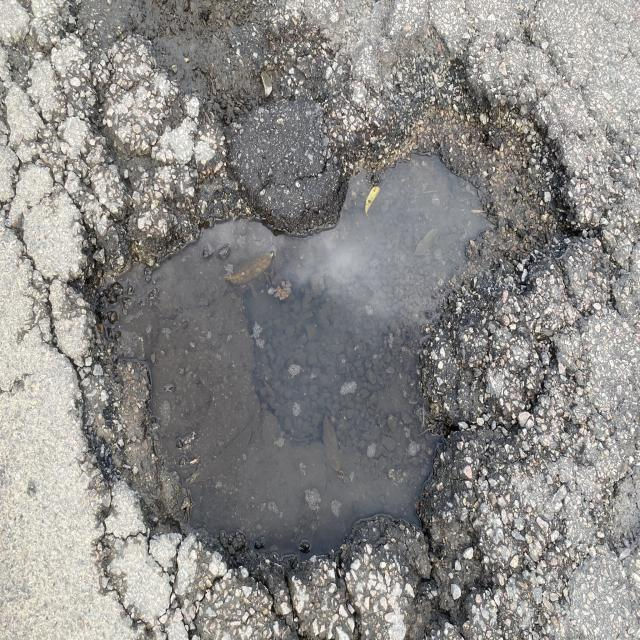pothole: (39, 0, 623, 604)
